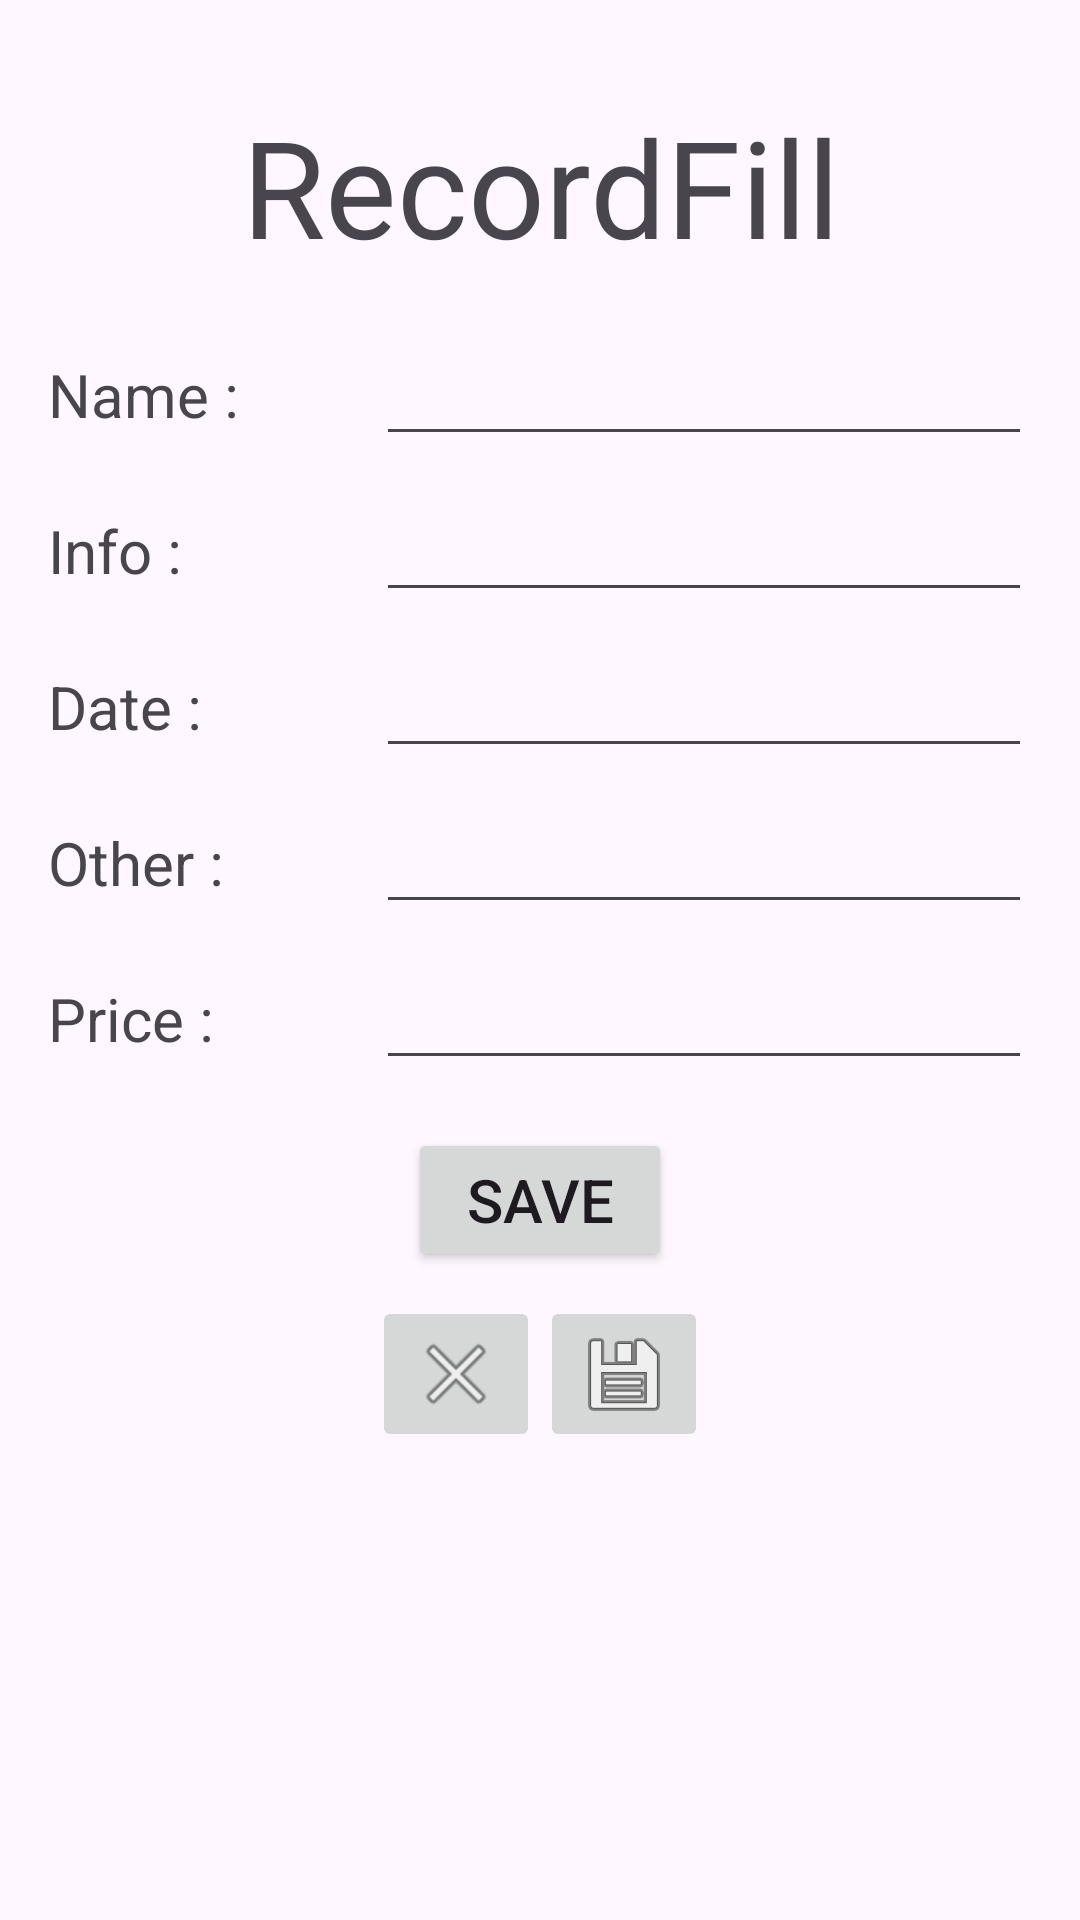

Icon click points for this 1080*1920 phone screenshot, format point (x, y):
Cancel: point (456, 1374)
